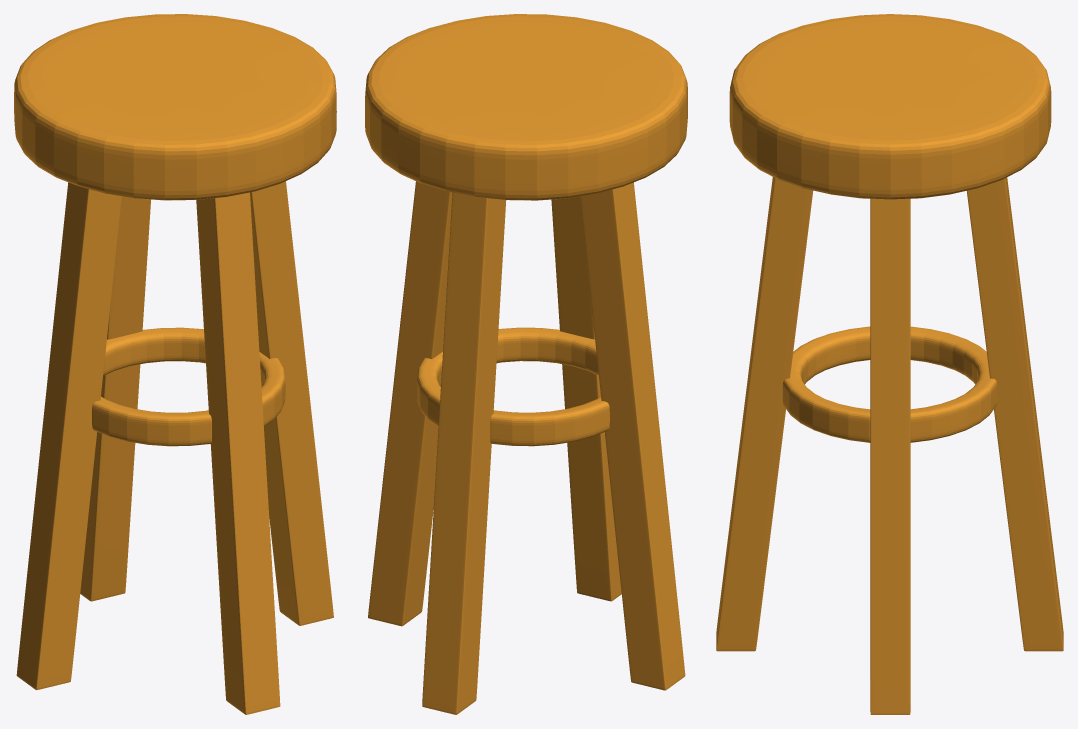
Rendered from Table1.fbx.
The picture shows the model from 3 angles, left to right: view 1: azimuth 30°, elevation 25°; view 2: azimuth 150°, elevation 25°; view 3: azimuth 270°, elevation 25°; orthographic projection.
Visible parts, largest first — view 1: Cube; view 2: Cube; view 3: Cube.
Boxes of the visible parts, bbox=[...] form: Cube: bbox=[14, 14, 336, 714]; Cube: bbox=[365, 14, 687, 714]; Cube: bbox=[716, 14, 1063, 714].
Bounding box in the file's own units: 58.29 × 106 × 59.31.
